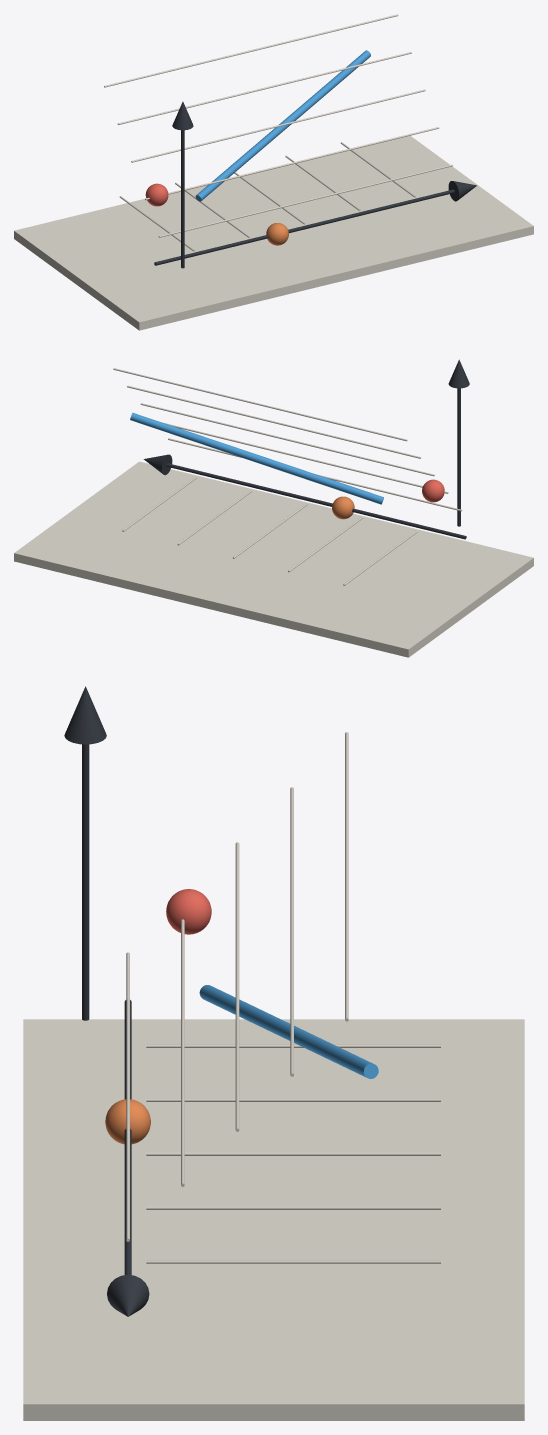
The model's file is math-advanced-math-graphs-intercept.glb.
The picture shows the model from 3 angles, top to bottom: view 1: azimuth 30°, elevation 25°; view 2: azimuth 150°, elevation 25°; view 3: azimuth 270°, elevation 25°; orthographic projection. The views are drawn at different scales.
Parts seen in each view (by area): view 1: advanced-math-base, line-crossing-y-axis, math-graphs-intercept-x-axis-shaft, math-graphs-intercept-horizontal-grid-5, math-graphs-intercept-horizontal-grid-3, math-graphs-intercept-horizontal-grid-1, math-graphs-intercept-horizontal-grid-4, math-graphs-intercept-horizontal-grid-2, math-graphs-intercept-y-axis-shaft, y-intercept-marker, x-intercept-marker; view 2: advanced-math-base, line-crossing-y-axis, math-graphs-intercept-x-axis-shaft, math-graphs-intercept-horizontal-grid-3, math-graphs-intercept-horizontal-grid-4, math-graphs-intercept-horizontal-grid-5, math-graphs-intercept-horizontal-grid-2, math-graphs-intercept-y-axis-shaft, math-graphs-intercept-horizontal-grid-1, y-intercept-marker, x-intercept-marker, math-graphs-intercept-y-axis-head; view 3: advanced-math-base, line-crossing-y-axis, math-graphs-intercept-y-axis-shaft, y-intercept-marker, x-intercept-marker, math-graphs-intercept-horizontal-grid-3, math-graphs-intercept-y-axis-head, math-graphs-intercept-x-axis-head, math-graphs-intercept-x-axis-shaft, math-graphs-intercept-vertical-grid-4, math-graphs-intercept-vertical-grid-5, math-graphs-intercept-vertical-grid-3 (+6 smaller).
Part boxes in pixels (box(x1,y1,x2,y2)): advanced-math-base: box(14, 135, 533, 330); line-crossing-y-axis: box(195, 50, 370, 201); math-graphs-intercept-x-axis-shaft: box(154, 189, 454, 265); math-graphs-intercept-horizontal-grid-5: box(104, 14, 398, 87); math-graphs-intercept-horizontal-grid-3: box(131, 89, 425, 162); math-graphs-intercept-horizontal-grid-1: box(158, 164, 452, 237); math-graphs-intercept-horizontal-grid-4: box(117, 52, 411, 124); math-graphs-intercept-horizontal-grid-2: box(145, 127, 439, 200); math-graphs-intercept-y-axis-shaft: box(181, 130, 184, 268); y-intercept-marker: box(145, 183, 168, 206); x-intercept-marker: box(266, 223, 288, 245); advanced-math-base: box(14, 461, 533, 657); line-crossing-y-axis: box(130, 412, 383, 504); math-graphs-intercept-x-axis-shaft: box(166, 463, 466, 539); math-graphs-intercept-horizontal-grid-3: box(140, 403, 434, 476); math-graphs-intercept-horizontal-grid-4: box(127, 385, 420, 458); math-graphs-intercept-horizontal-grid-5: box(113, 368, 407, 441); math-graphs-intercept-horizontal-grid-2: box(163, 422, 448, 493); math-graphs-intercept-y-axis-shaft: box(457, 388, 460, 526); math-graphs-intercept-horizontal-grid-1: box(168, 438, 462, 511); y-intercept-marker: box(422, 479, 444, 502); x-intercept-marker: box(332, 496, 354, 519); math-graphs-intercept-y-axis-head: box(448, 359, 469, 388); advanced-math-base: box(23, 1019, 524, 1420); line-crossing-y-axis: box(199, 985, 378, 1078); math-graphs-intercept-y-axis-shaft: box(82, 744, 89, 1020); y-intercept-marker: box(166, 889, 211, 934); x-intercept-marker: box(105, 1099, 150, 1144); math-graphs-intercept-horizontal-grid-3: box(235, 842, 239, 1131); math-graphs-intercept-y-axis-head: box(64, 686, 106, 744); math-graphs-intercept-x-axis-head: box(107, 1274, 149, 1316); math-graphs-intercept-x-axis-shaft: box(124, 1000, 131, 1274); math-graphs-intercept-vertical-grid-4: box(146, 1206, 440, 1209); math-graphs-intercept-vertical-grid-5: box(146, 1260, 440, 1263); math-graphs-intercept-vertical-grid-3: box(146, 1152, 440, 1155).
Size of what is drawn, in the model's own units: 3 by 1.48 by 1.65.
